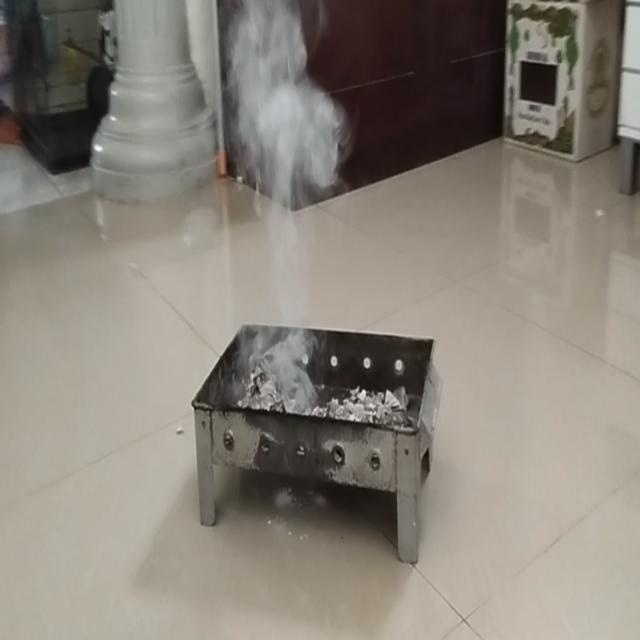smoke: (223, 4, 353, 393)
